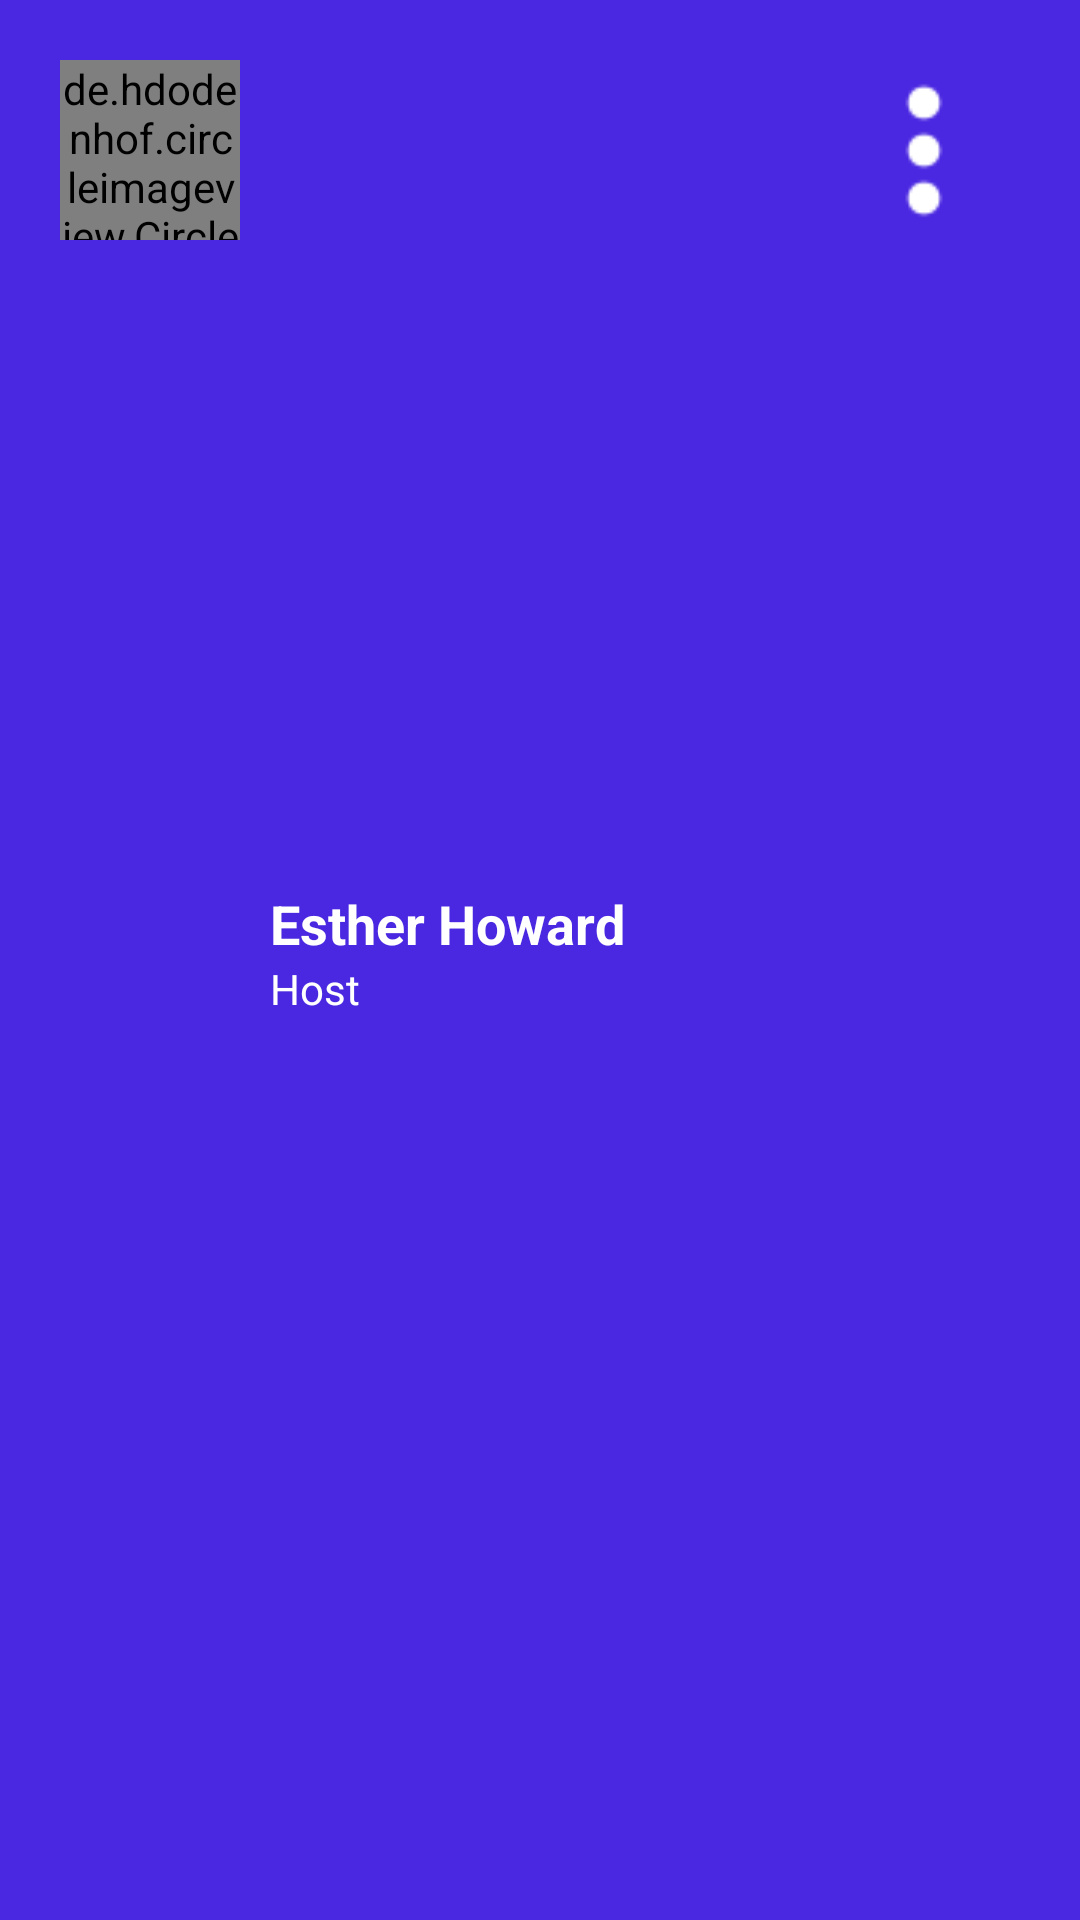

Screen size 1080*1920. Icon name, then its box in pixels as box=[x1, y1, x2, y2]:
menu: box=[906, 85, 942, 216]
